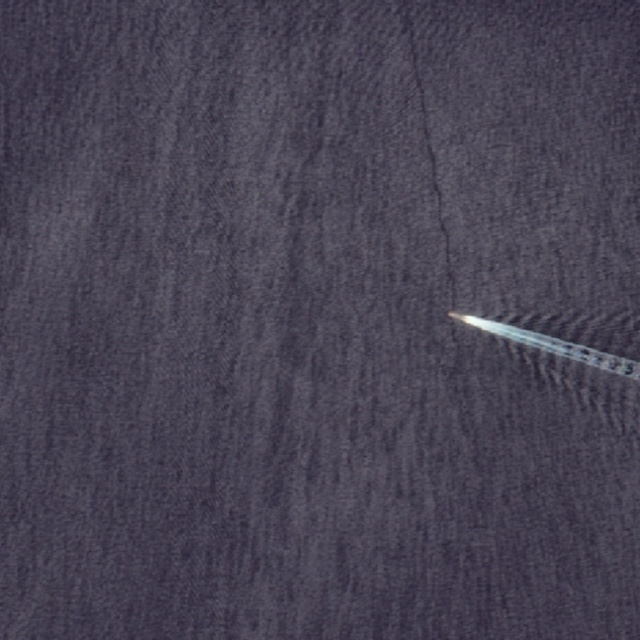wake: (429, 267, 619, 402)
